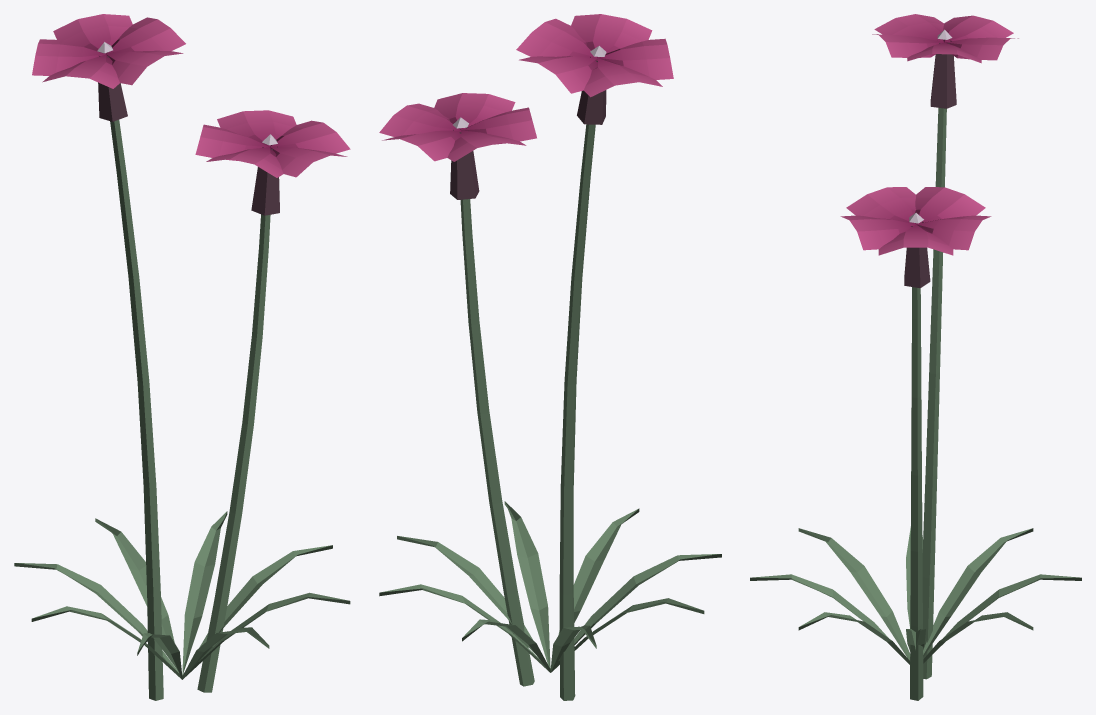
Rendered from gozdzik-lsniacy.glb.
The picture shows the model from 3 angles, left to right: view 1: azimuth 30°, elevation 25°; view 2: azimuth 150°, elevation 25°; view 3: azimuth 270°, elevation 25°; orthographic projection. The views are drawn at different scales.
Parts seen in each view (by area): view 1: gozdzik-lsniacy; view 2: gozdzik-lsniacy; view 3: gozdzik-lsniacy.
Part boxes in pixels (x1,y1,x2,y2): gozdzik-lsniacy: (14, 14, 350, 700); gozdzik-lsniacy: (379, 14, 721, 700); gozdzik-lsniacy: (750, 14, 1081, 700).
Size of the model in its own units: 0.0832 by 0.1682 by 0.08.
